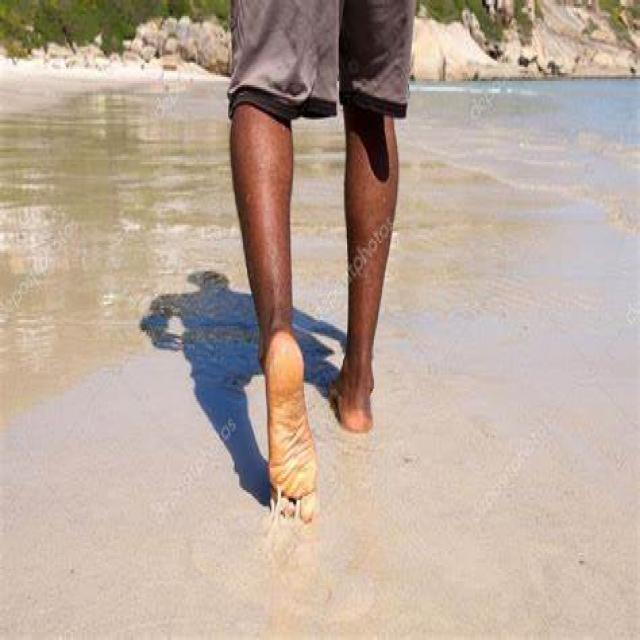No_Shoe: (262, 333, 325, 518), (328, 352, 385, 438)
